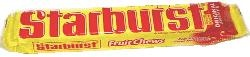grozi_37: (0, 1, 250, 54)
